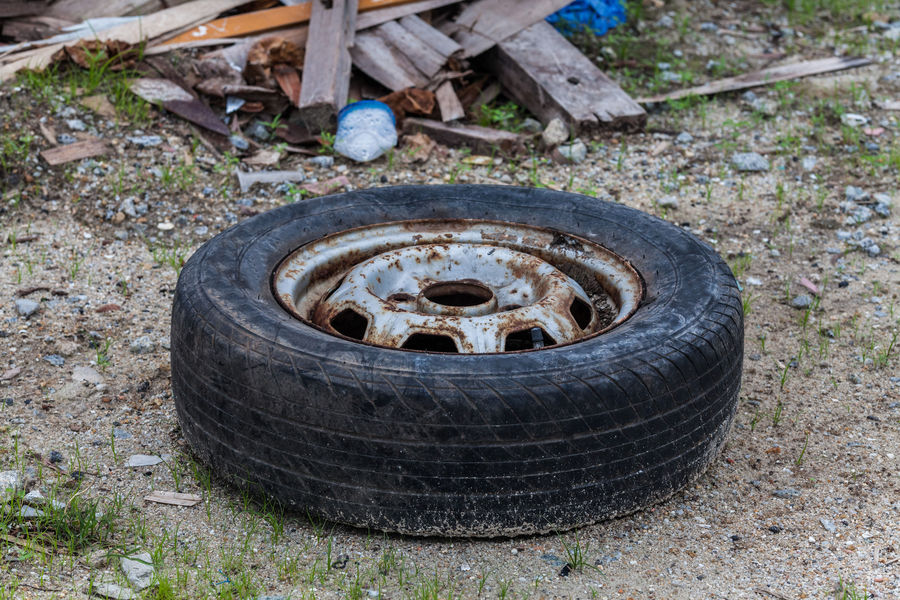tire: (170, 180, 756, 543)
